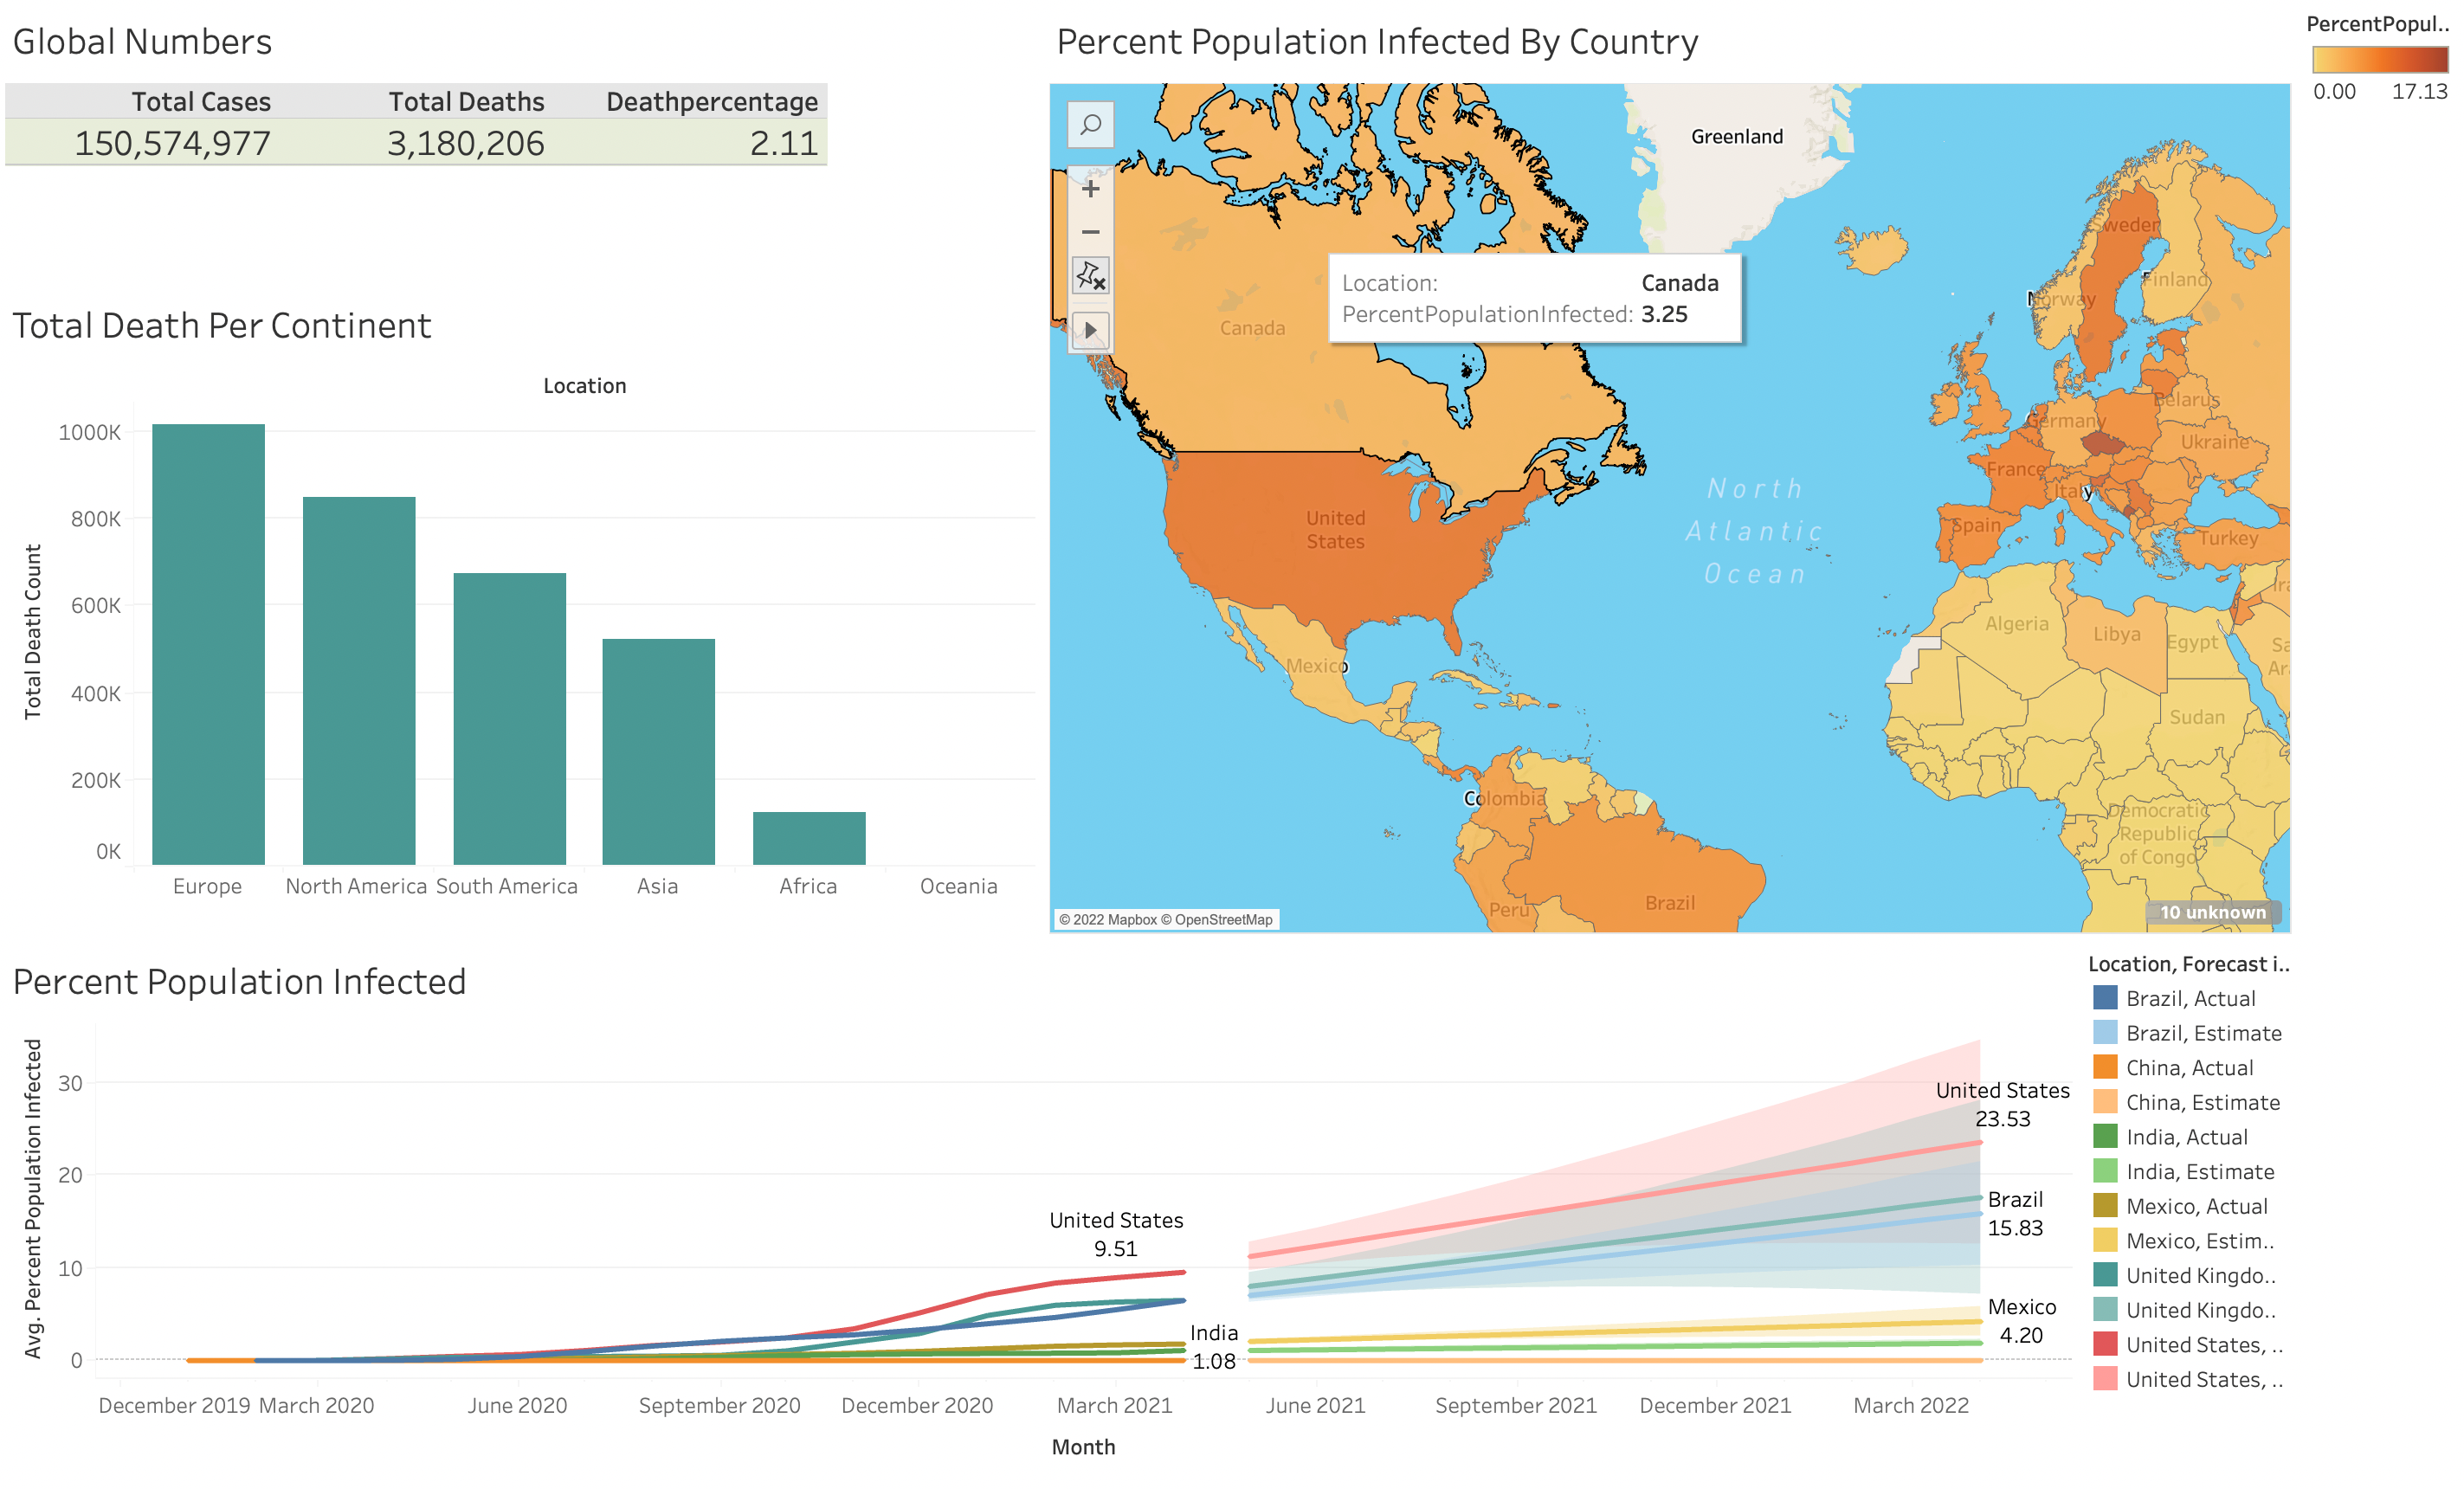

The dashboard page shown, as its layout file describes it:
{"tool":"tableau","page":{"name":"Dashboard 1","canvas":[1000,1000],"units":"permille","ordinal":0},"visuals":[{"type":"worksheet","title":"Sheet 1","mark":"Automatic","box":[6.7,9.9,453.7,169.6]},{"type":"worksheet","title":"Sheet 3","mark":"Automatic","box":[460.4,9.9,453.7,563.1]},{"type":"legend","title":"Sheet 3","param":"[federated.1mvks8o1p1ub3u14tnepc14jbqma].[sum:F4:qk]","box":[914.1,9.9,79.2,79.2]},{"type":"worksheet","title":"Sheet 2","mark":"Automatic","rows":["totaldeathcount"],"cols":["location"],"box":[6.7,179.5,453.7,393.6]},{"type":"worksheet","title":"Sheet 4","mark":"Automatic","rows":["percentpopulationinfected"],"cols":["date"],"box":[6.7,573,831.5,417.1]},{"type":"legend","title":"Sheet 4","param":"[federated.08tb41u1v8skak180yjc4101k66f].[none:location:nk]","box":[838.2,573,75.9,417.1]}]}

Visuals, with their boxes on the dashboard's canvas, which has no fixed pixel size, in thousandths of its width and height (x1, y1, x2, y2). These are canvas units, not pixel positions in the 2464x1489 screenshot, which may show the page scaled, cropped or inside an application window:
"Sheet 1" worksheet: (left=7, top=10, right=460, bottom=180)
"Sheet 3" worksheet: (left=460, top=10, right=914, bottom=573)
"Sheet 3" legend: (left=914, top=10, right=993, bottom=89)
"Sheet 2" worksheet: (left=7, top=180, right=460, bottom=573)
"Sheet 4" worksheet: (left=7, top=573, right=838, bottom=990)
"Sheet 4" legend: (left=838, top=573, right=914, bottom=990)
